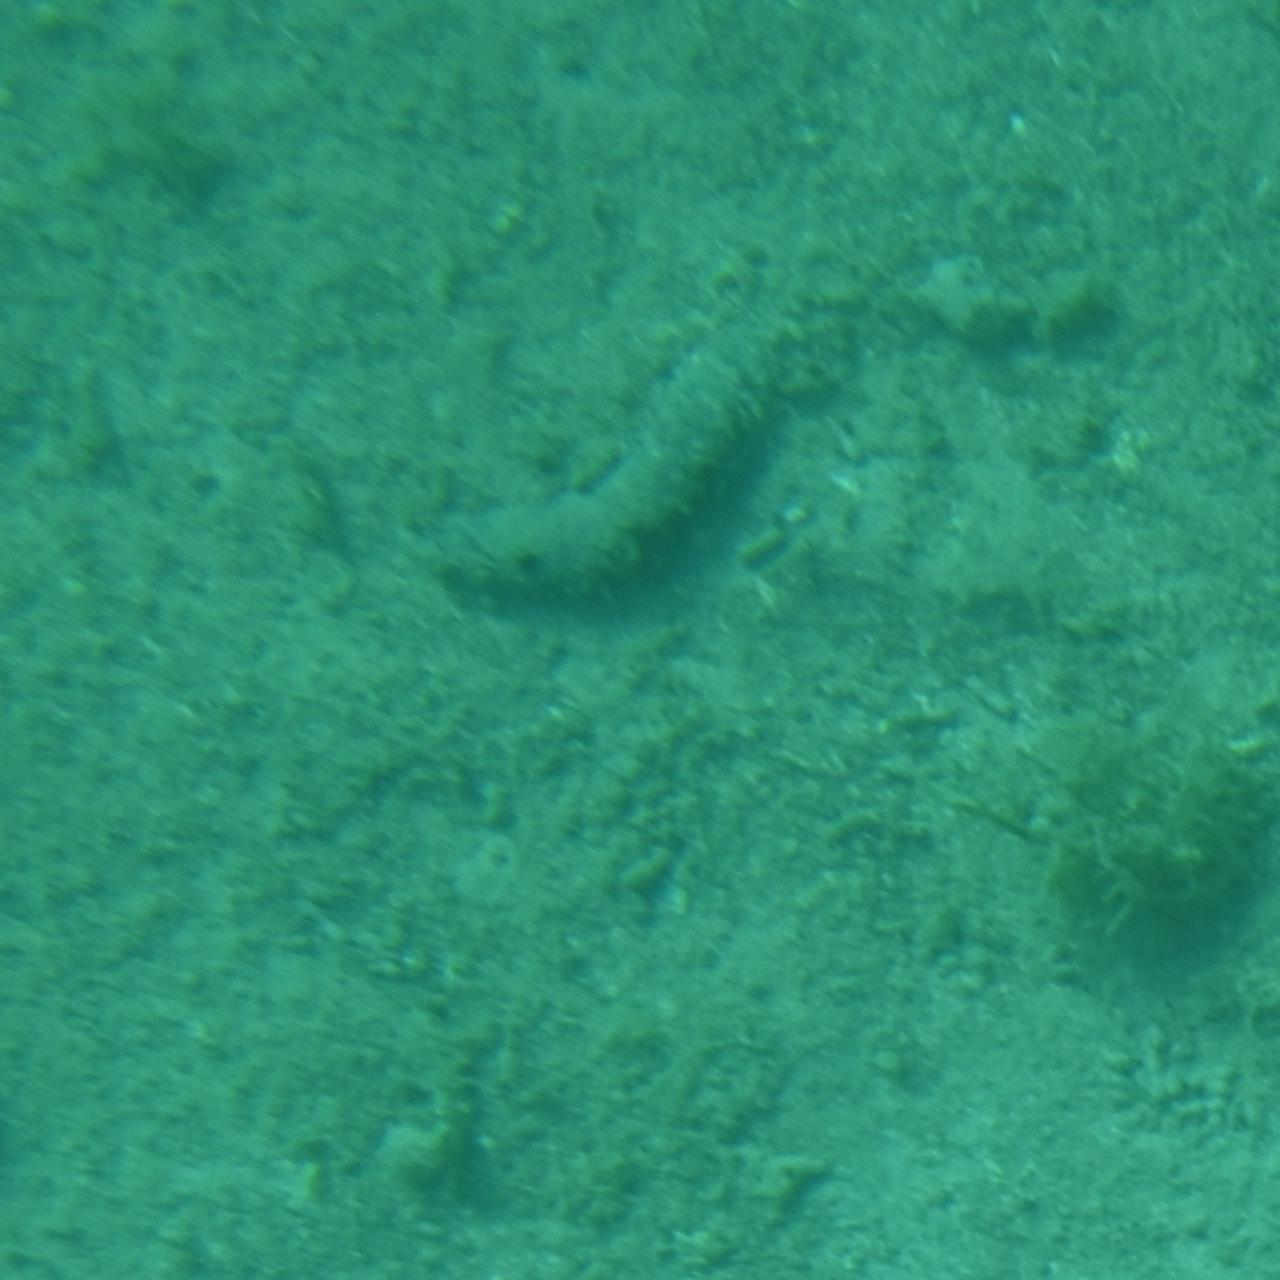Holothuria tubulosa: (442, 315, 838, 610)
